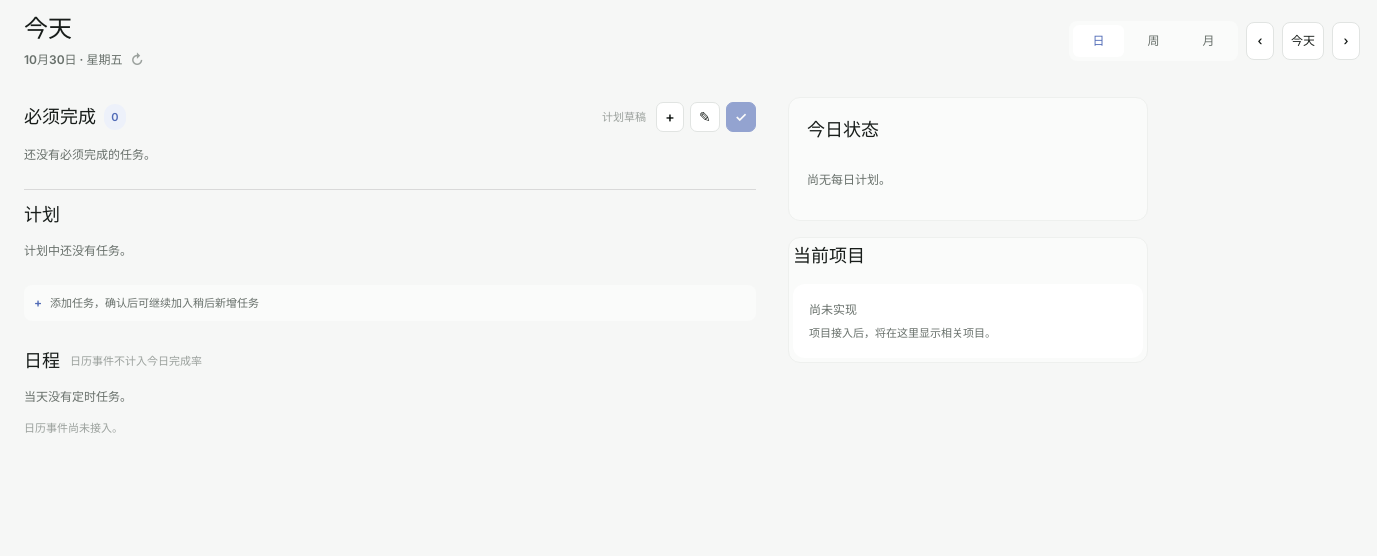
Test case: Today Desktop › retries a failed join using the existing Task
Expected: the text "计划草稿" is shown, [602,108,646,126]
Click the button "+ 添加任务，确认后可继续加入稍后新增任务": [155, 303] box [24,285,756,321]
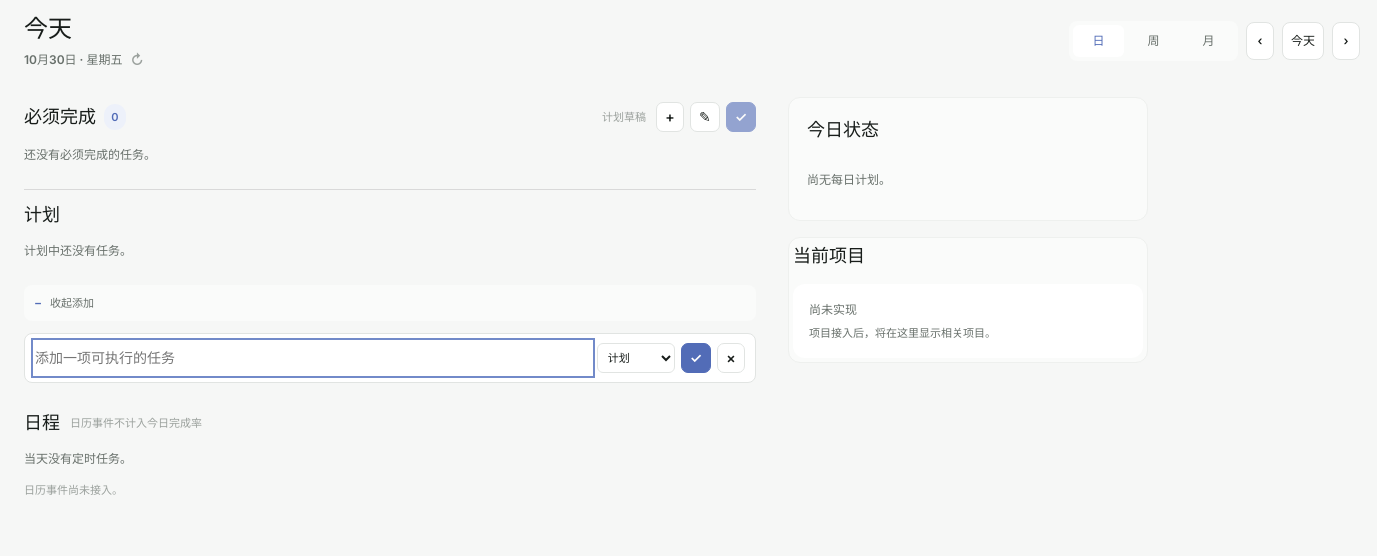
In the field named "任务名称": [313, 358] box [35,342,591,374], type "Keep identity"
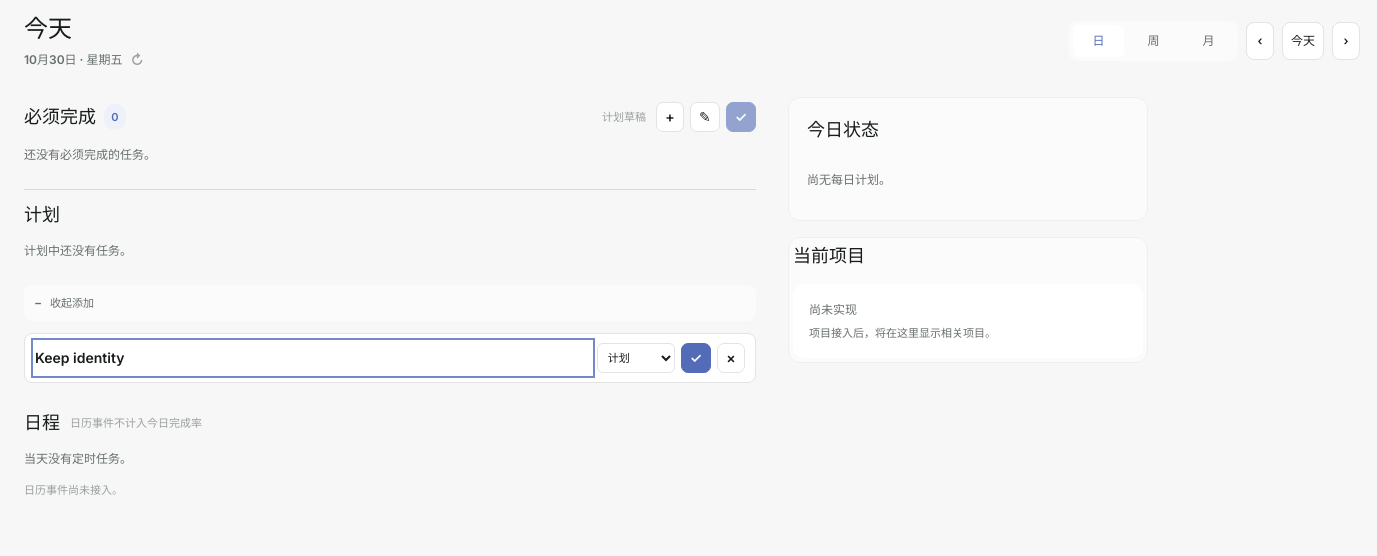
Click the button named "创建并加入草稿": [696, 358] box [681,343,711,373]
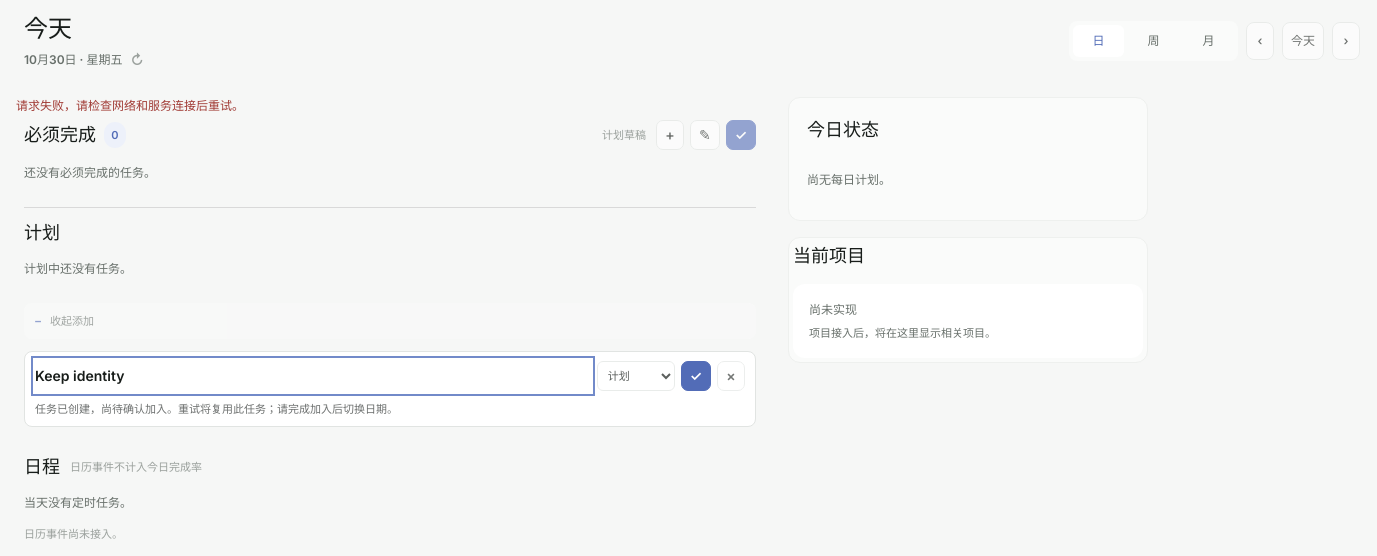
Expected: the button named "后一天" is disabled, [1332,22,1360,60]
Result: the message "请求失败，请检查网络和服务连接后重试。" is shown at [16,98,244,113]
Result: the button "− 收起添加" is disabled at [24,303,756,339]
Click the button named "重试加入此任务": [696, 376] box [681,361,711,391]
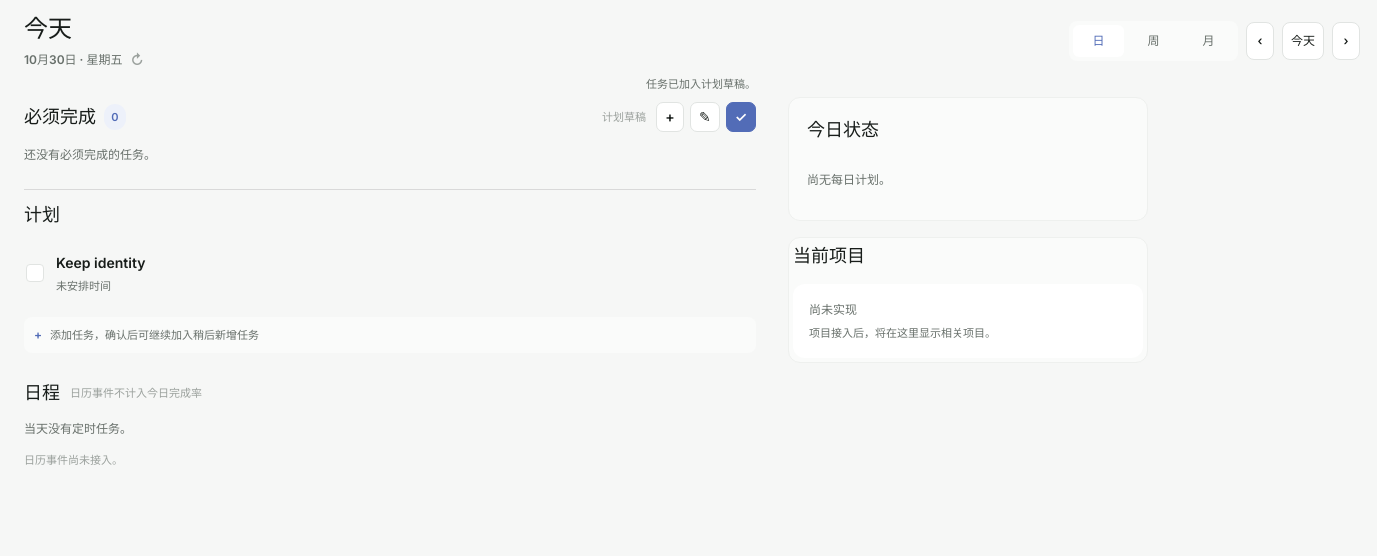
Result: the text "Keep identity" is shown at [56,254,146,271]
